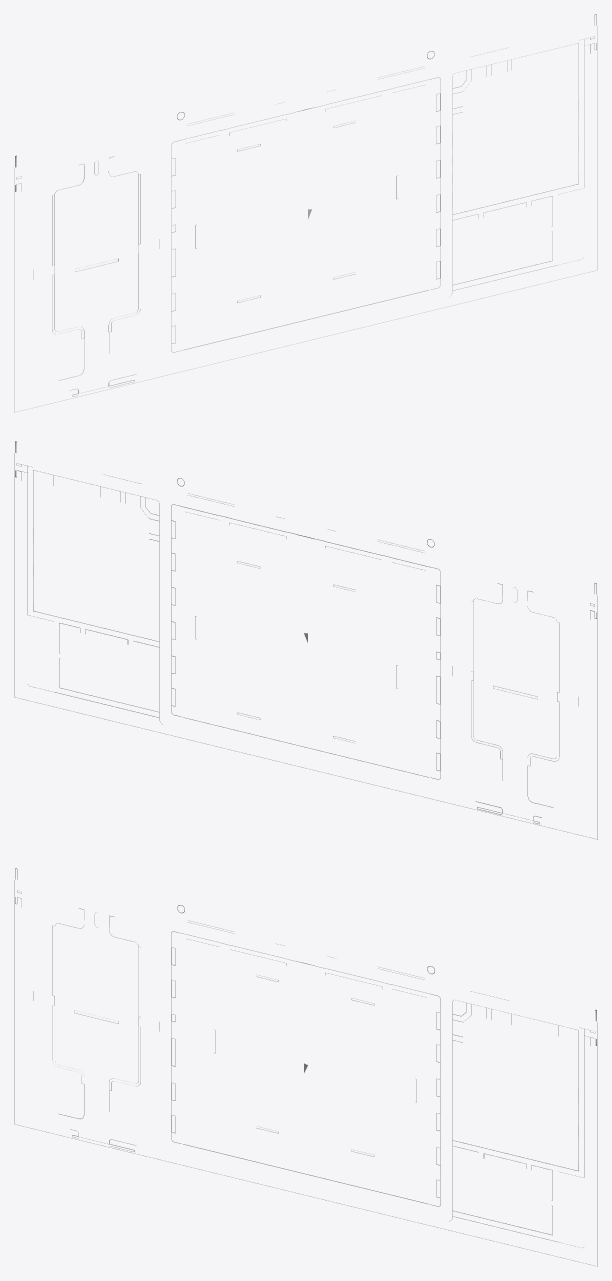
The model's file is SM_000411_merge_curb01__002.fbx.
The picture shows the model from 3 angles, top to bottom: view 1: azimuth 30°, elevation 25°; view 2: azimuth 150°, elevation 25°; view 3: azimuth 330°, elevation 25°; orthographic projection.
Parts seen in each view (by area): view 1: SM_000411.001; view 2: SM_000411.001; view 3: SM_000411.001.
Boxes of the visible parts, bbox=[...] form: SM_000411.001: bbox=[14, 14, 597, 412]; SM_000411.001: bbox=[14, 441, 597, 839]; SM_000411.001: bbox=[14, 868, 597, 1266].
Size of the model in its own units: 330 by 140 by 11.09.
